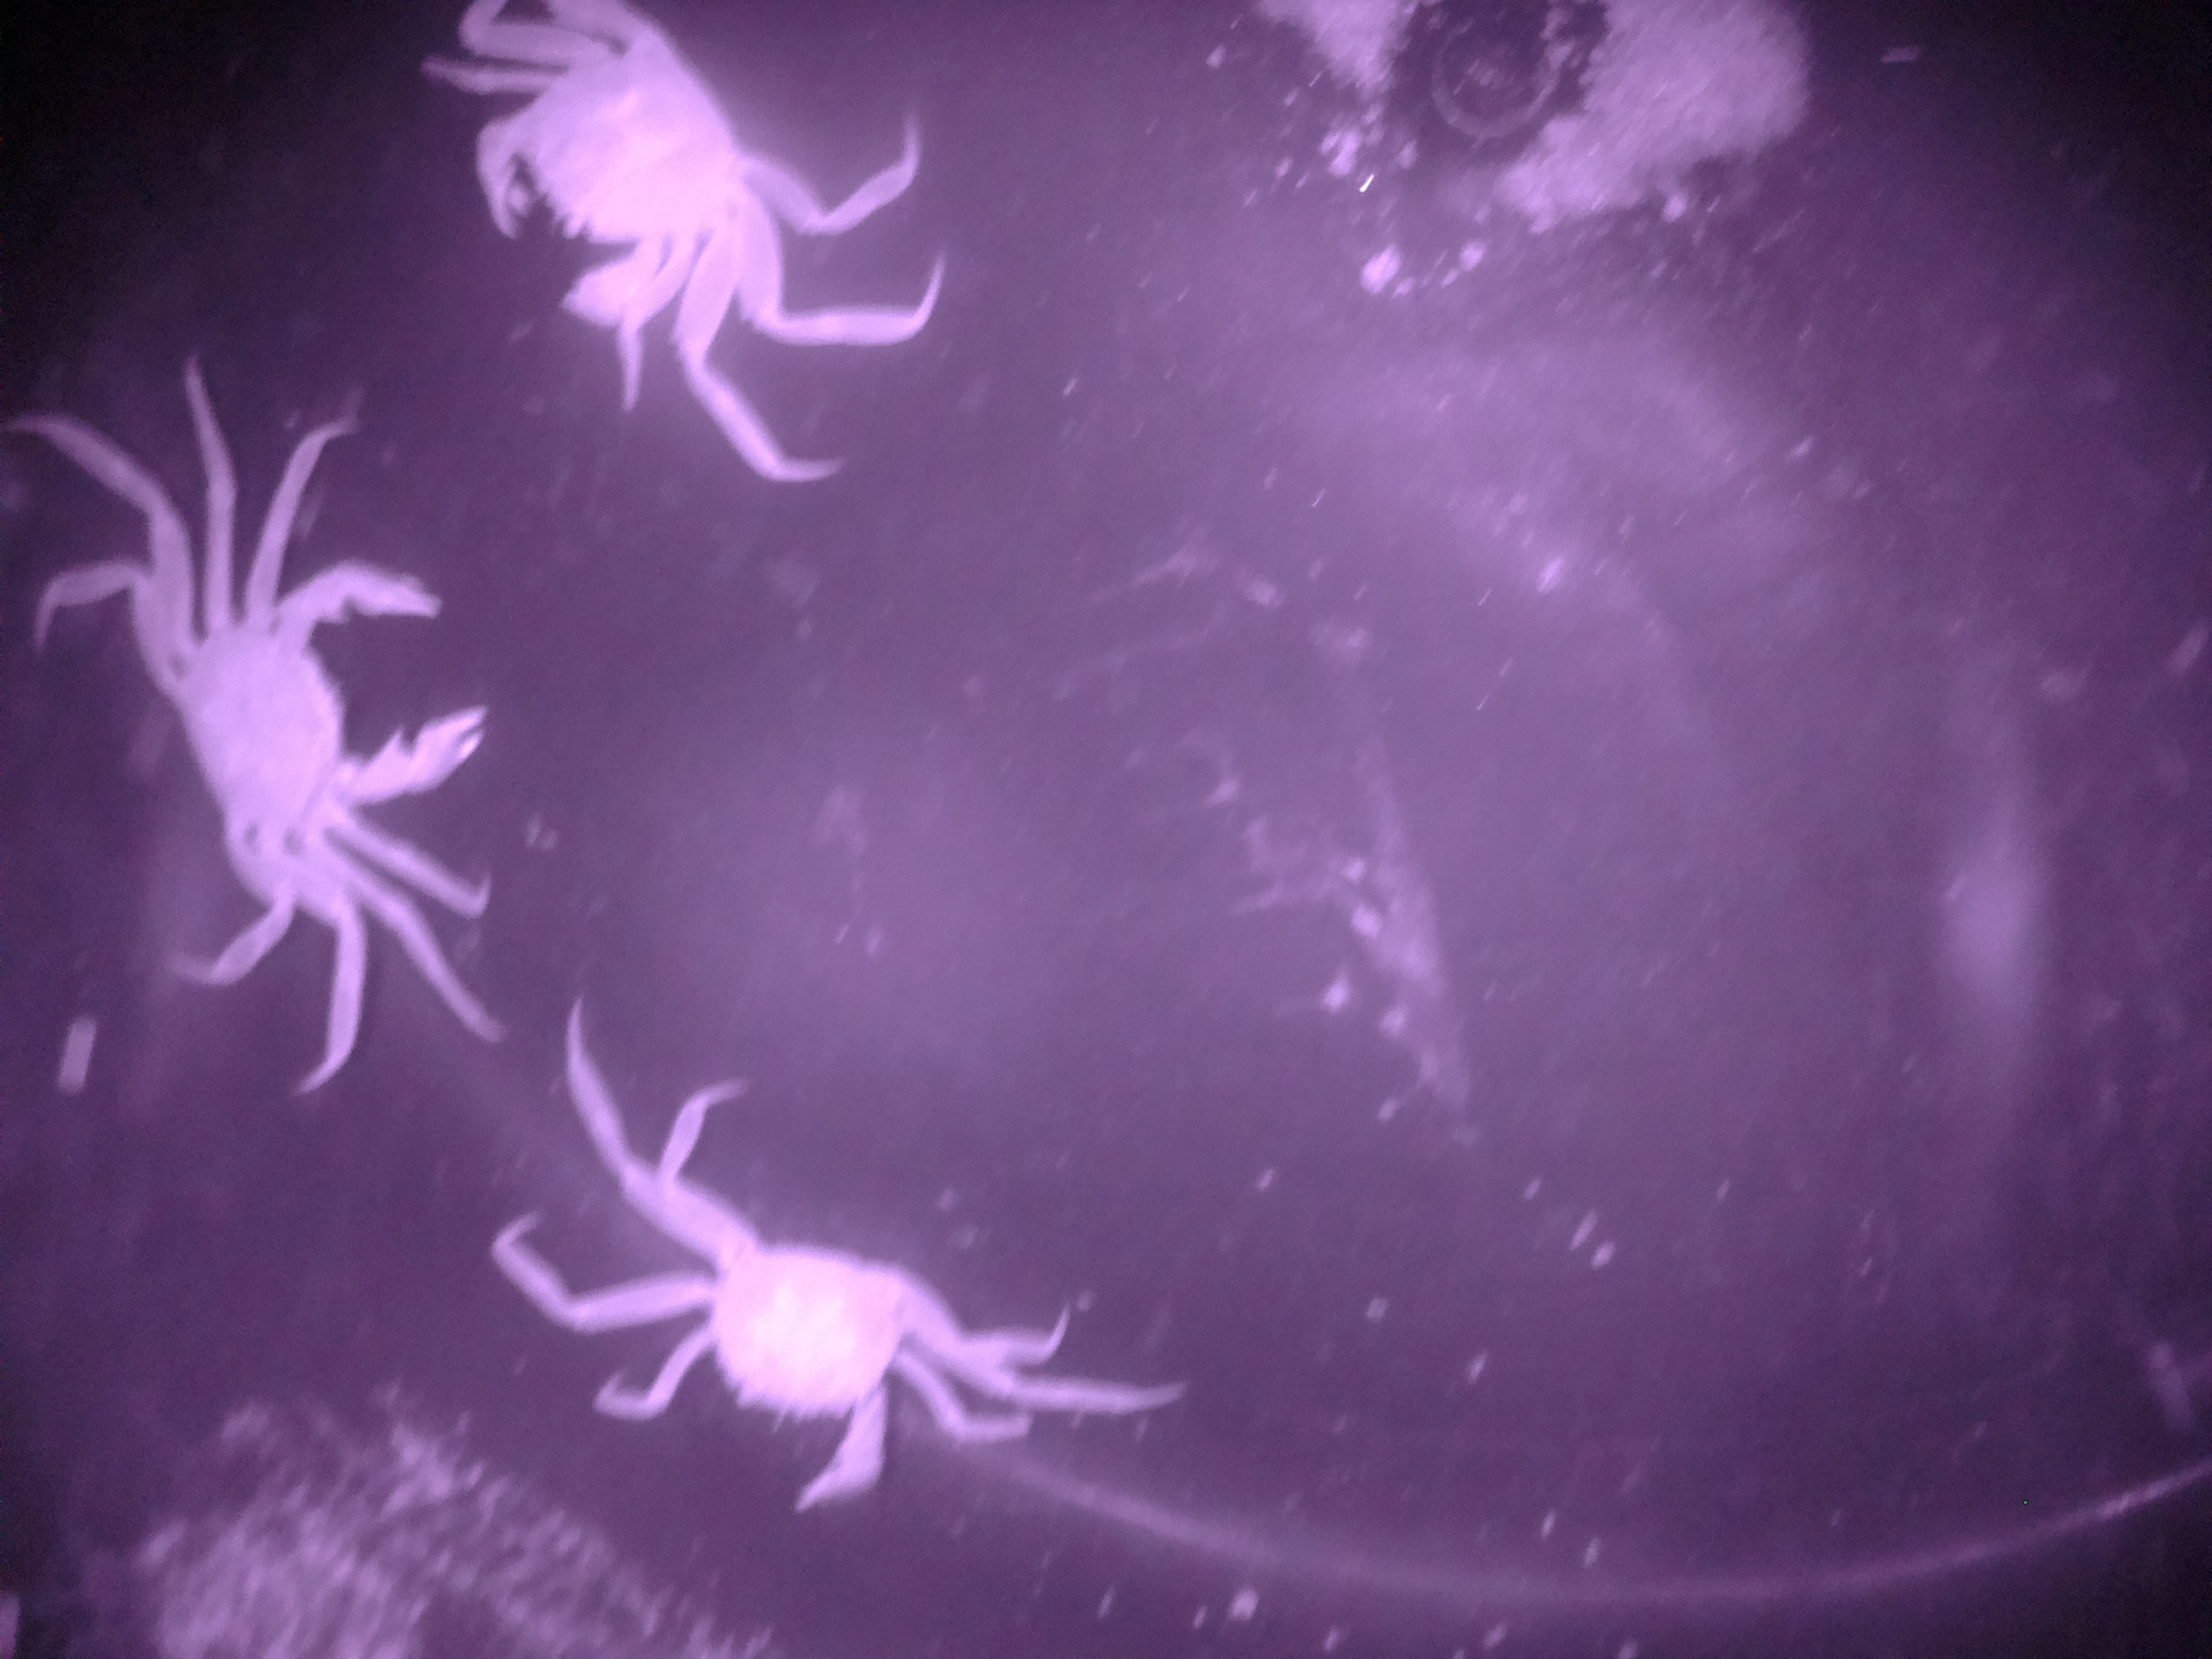Crab: (87, 495, 512, 946), (632, 1105, 1003, 1567), (430, 0, 810, 434)
